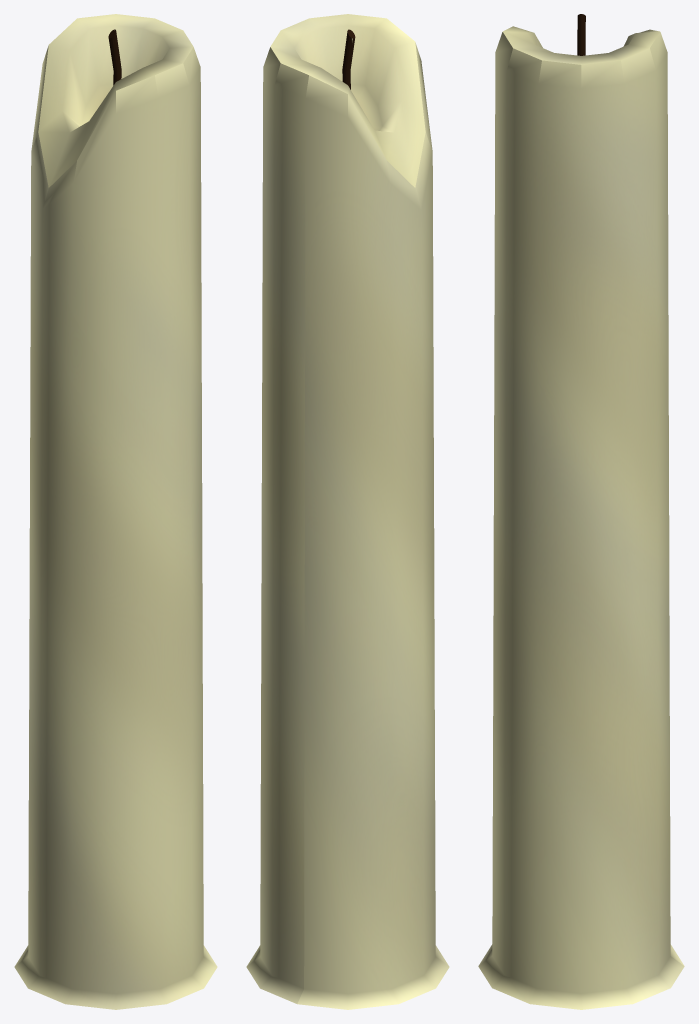
File: StationaryCandle.fbx
The picture shows the model from 3 angles, left to right: view 1: azimuth 30°, elevation 25°; view 2: azimuth 150°, elevation 25°; view 3: azimuth 270°, elevation 25°; orthographic projection.
Parts seen in each view (by area): view 1: CandleStationary; view 2: CandleStationary; view 3: CandleStationary.
Boxes of the visible parts, left/top/right/bottom form: CandleStationary: left=14, top=14, right=217, bottom=1009; CandleStationary: left=246, top=14, right=449, bottom=1009; CandleStationary: left=478, top=14, right=684, bottom=1009.
Size of the model in its own units: 0.8061 by 4.1 by 0.8061.
